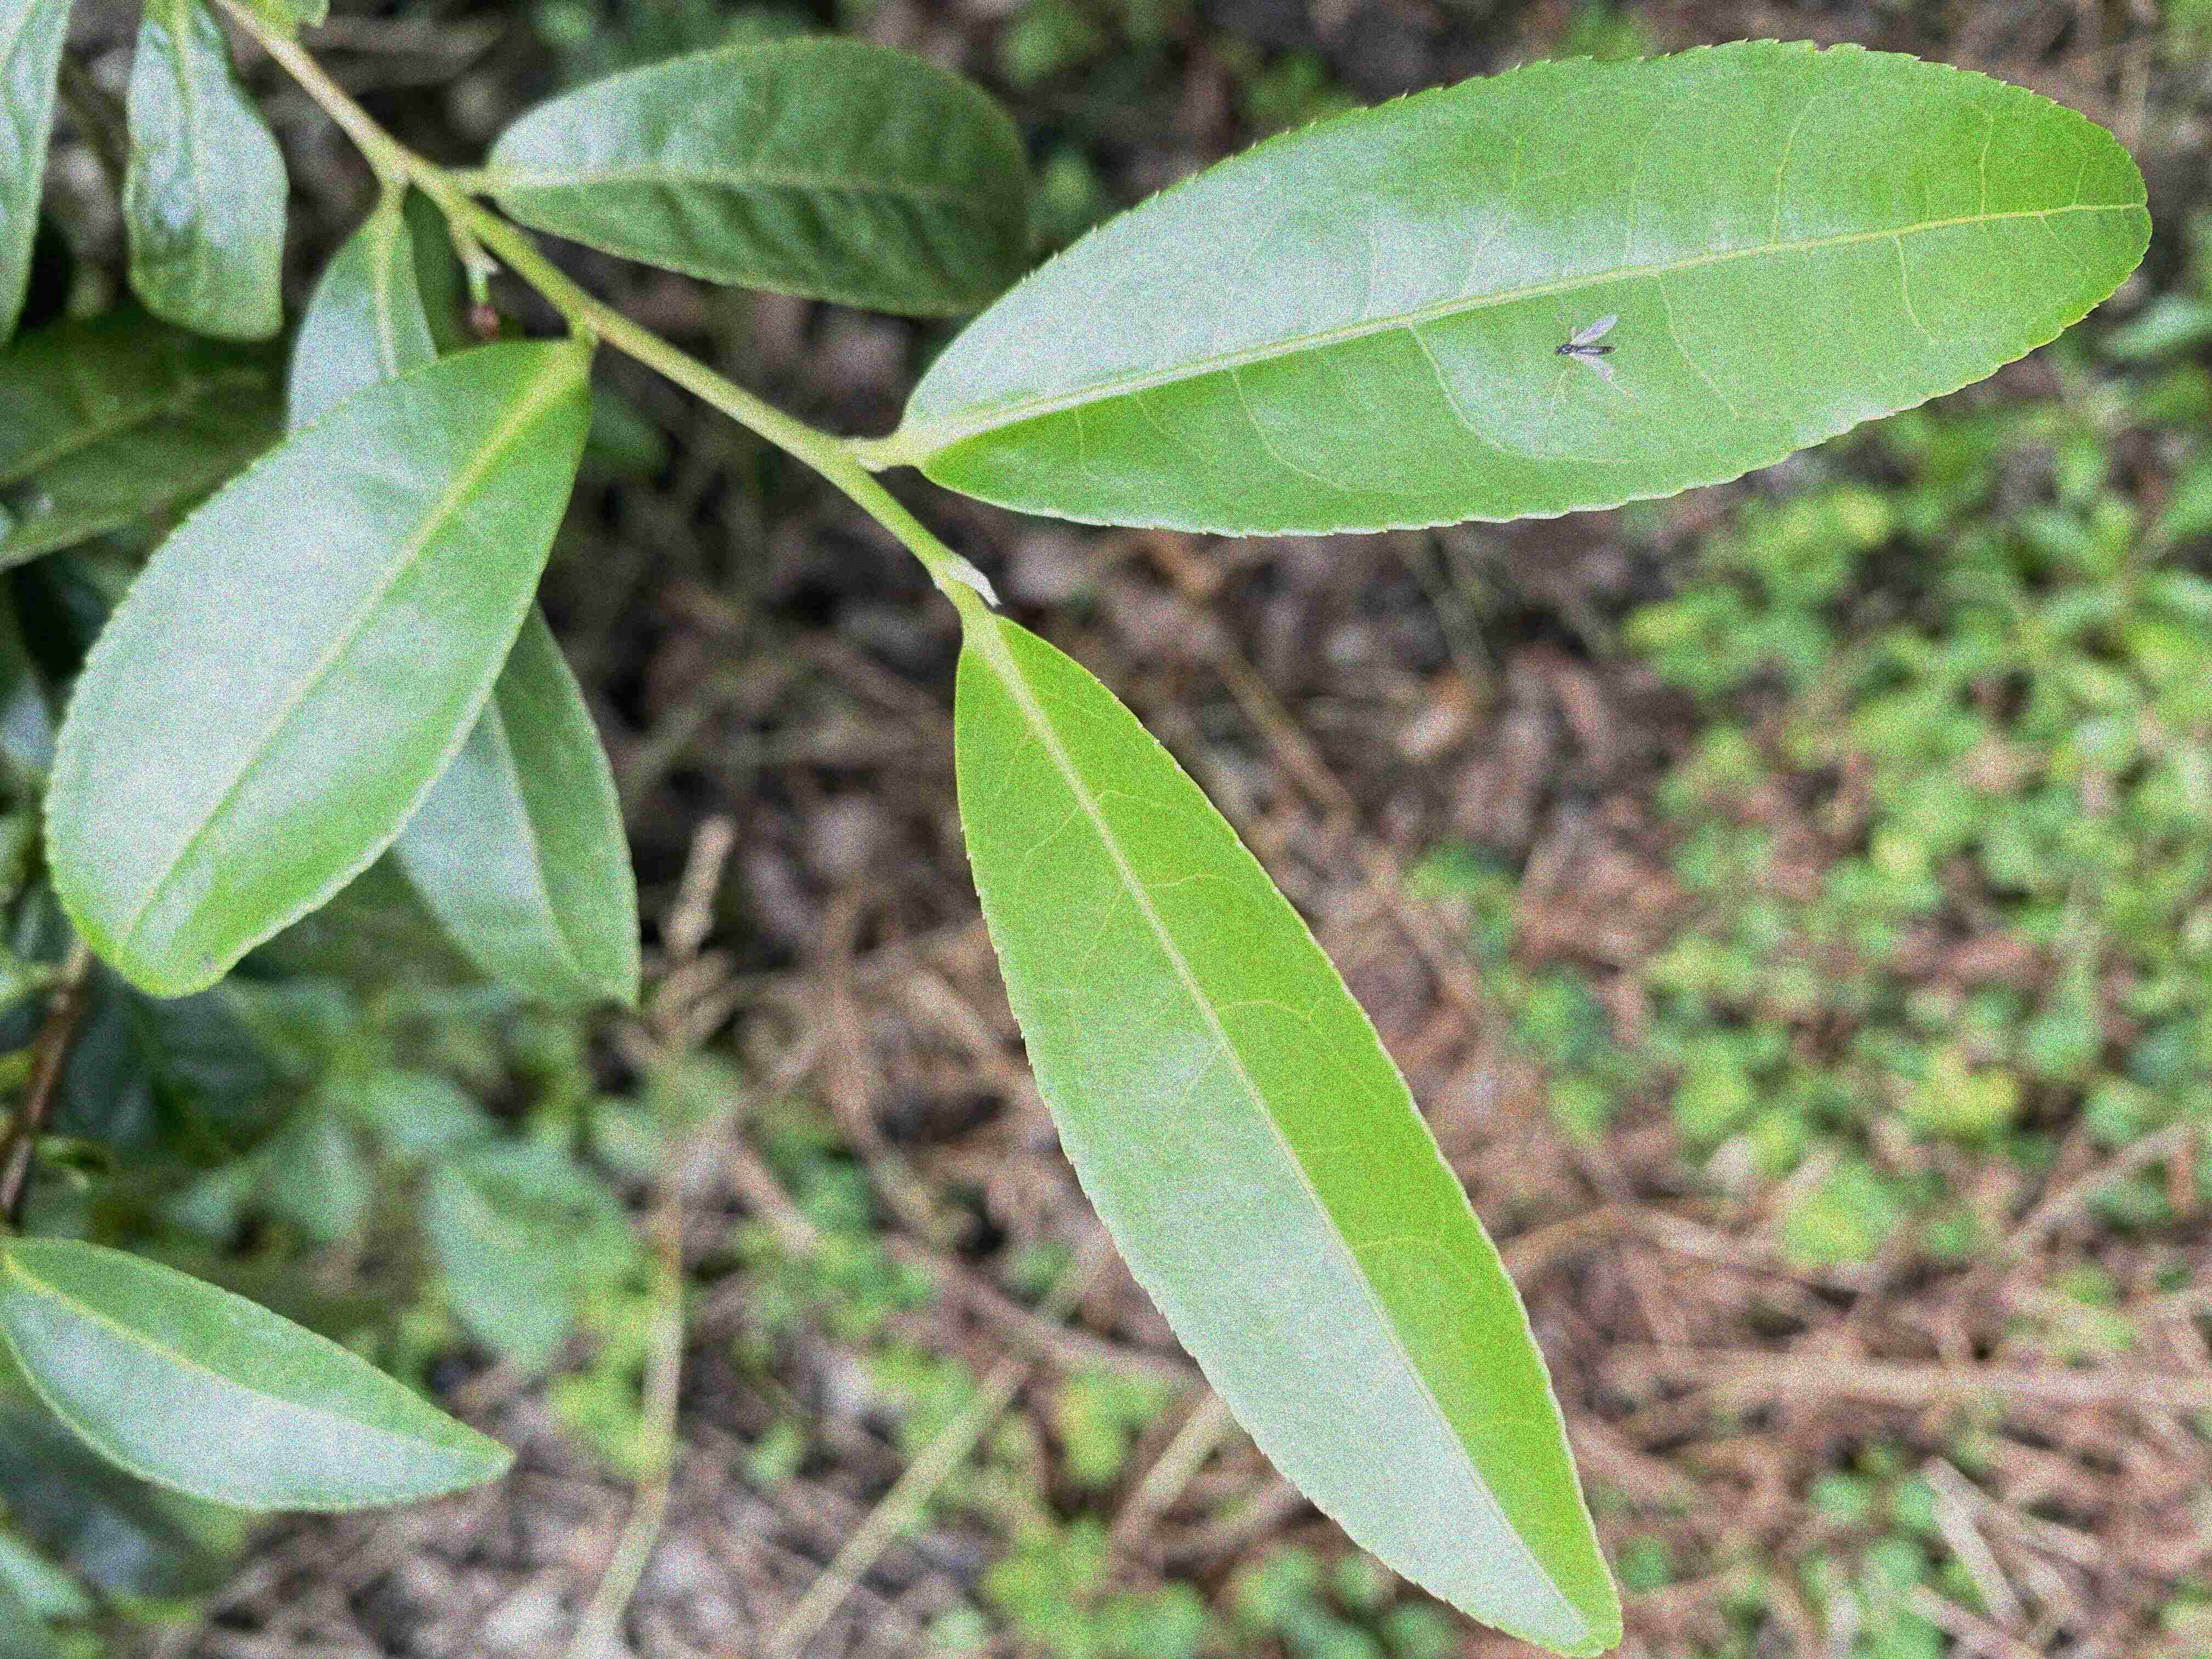healthy: (949, 626, 1627, 1657), (906, 38, 2153, 538), (42, 343, 590, 1002), (3, 1230, 516, 1511)
